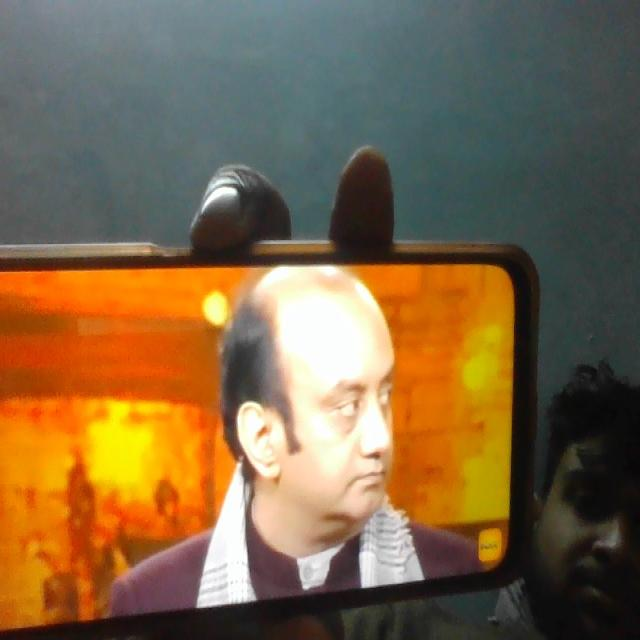fake: (252, 255, 411, 556)
